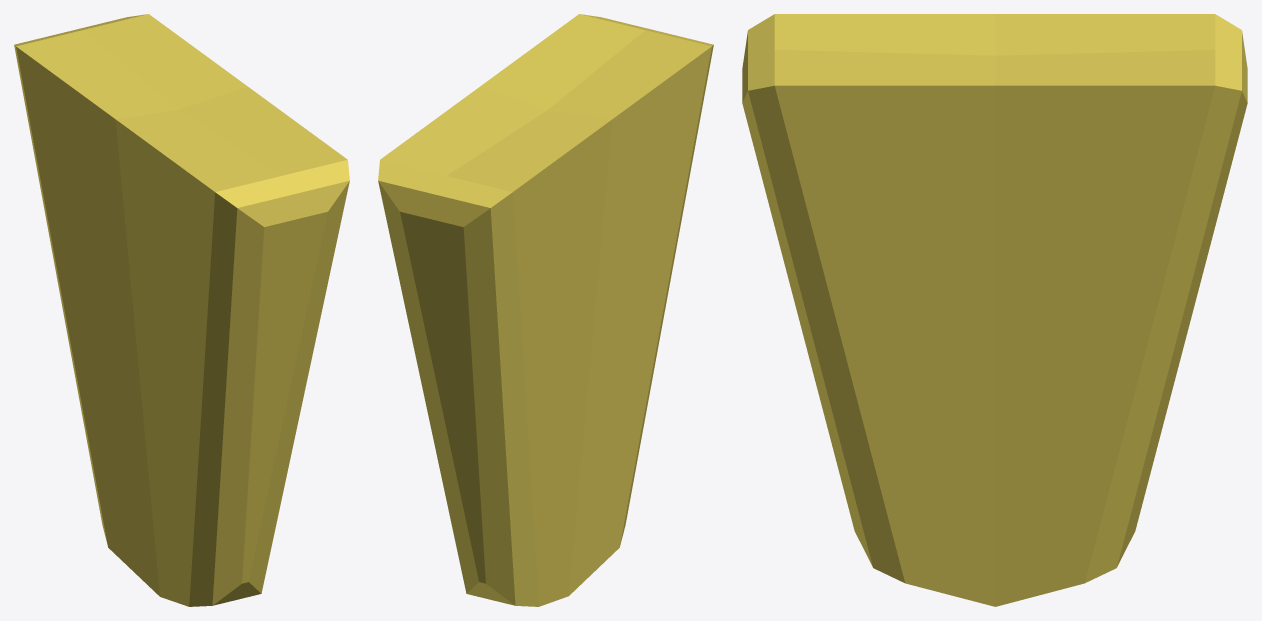
File: CornKernel.fbx
3 views of the same model, side by side, from view 1: azimuth 30°, elevation 25°; view 2: azimuth 150°, elevation 25°; view 3: azimuth 270°, elevation 25° (orthographic). The views are drawn at different scales.
Parts seen in each view (by area): view 1: Corn Kernel; view 2: Corn Kernel; view 3: Corn Kernel.
Boxes of the visible parts, x1,y1,x2,y2 form: Corn Kernel: (14,14,349,606); Corn Kernel: (378,14,713,606); Corn Kernel: (742,14,1247,606).
Size of the model in its own units: 6.39 by 22.91 by 19.03.
